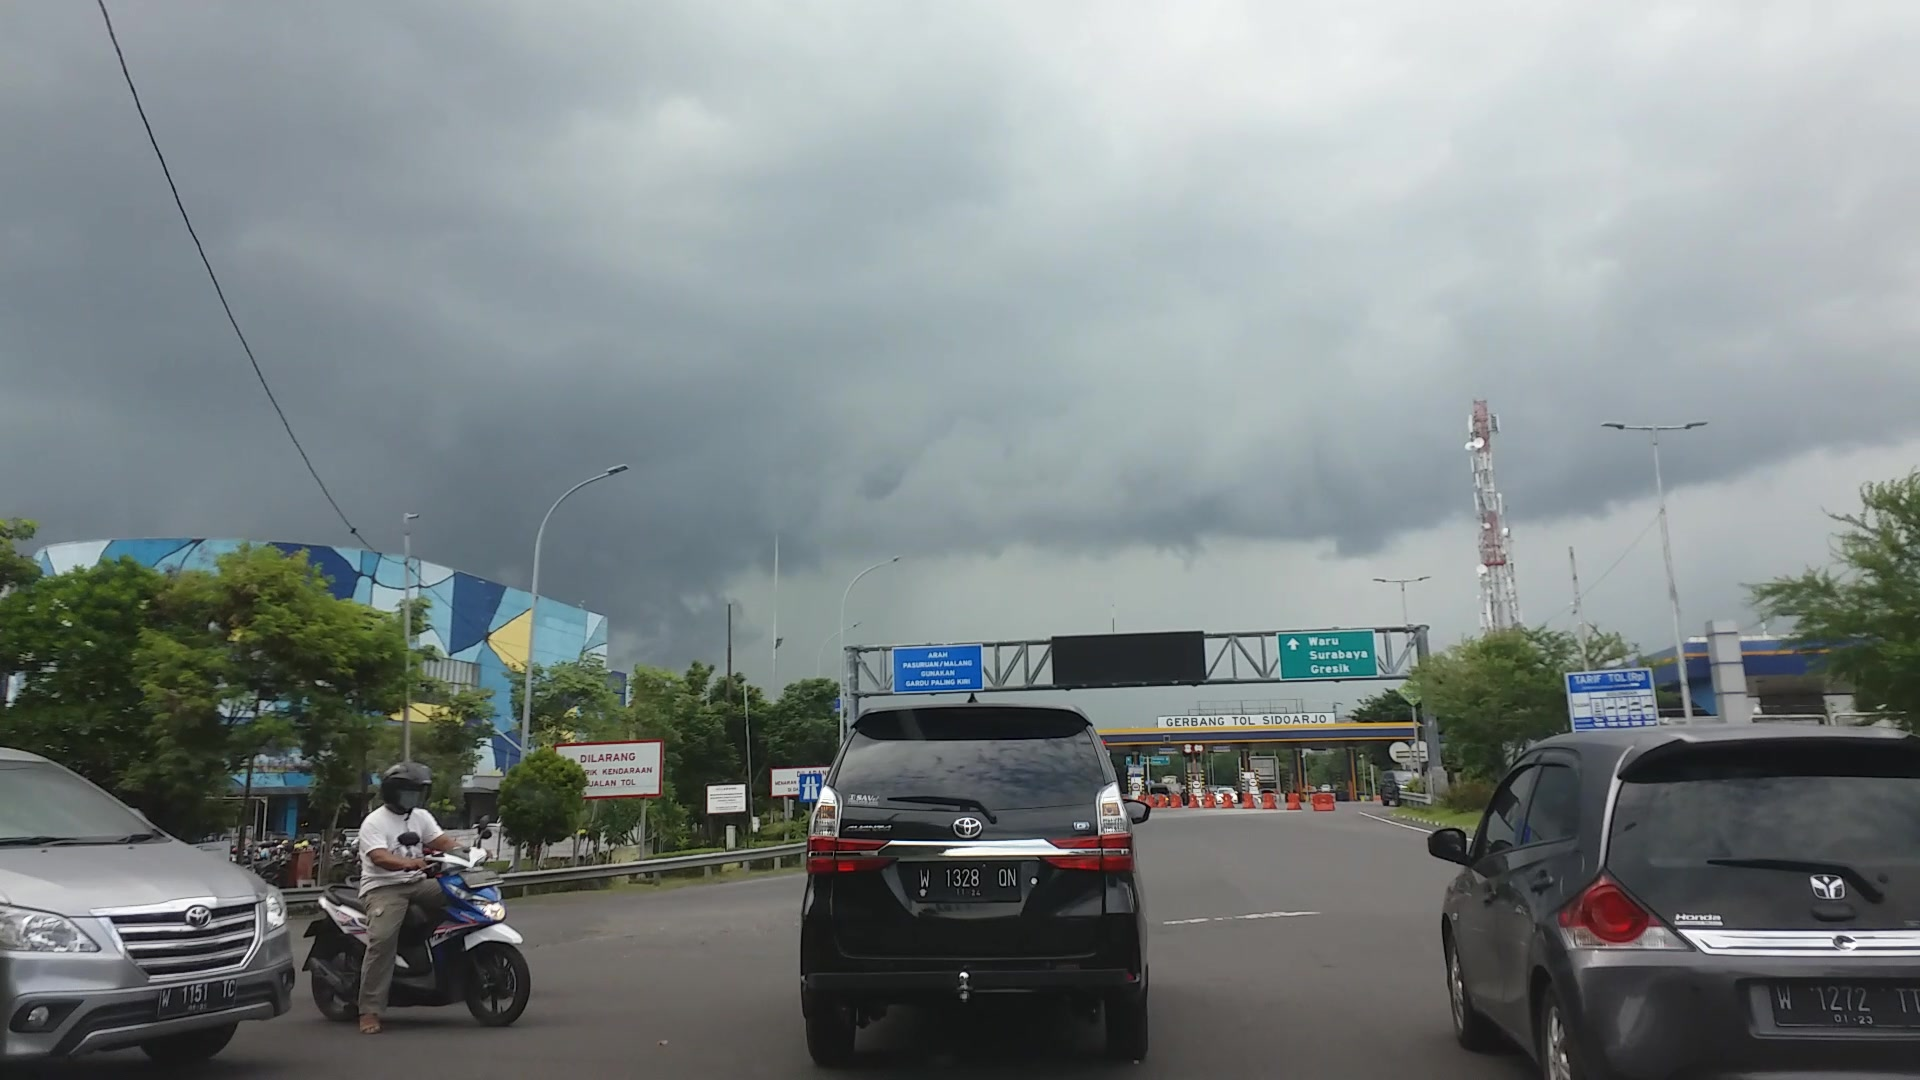plate_positive: (911, 861, 1021, 902)
